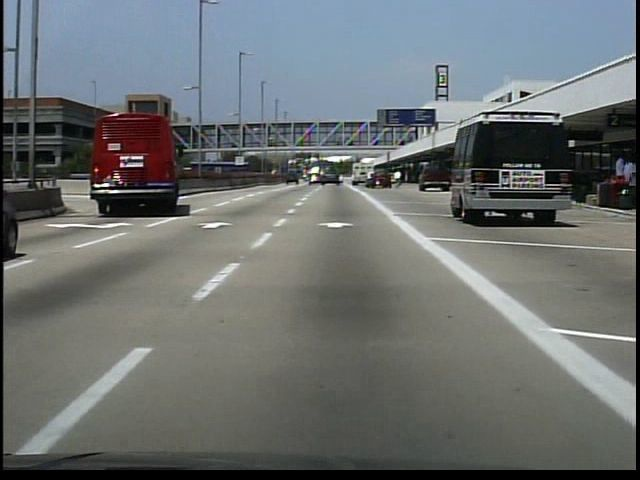person: (391, 168, 404, 191)
